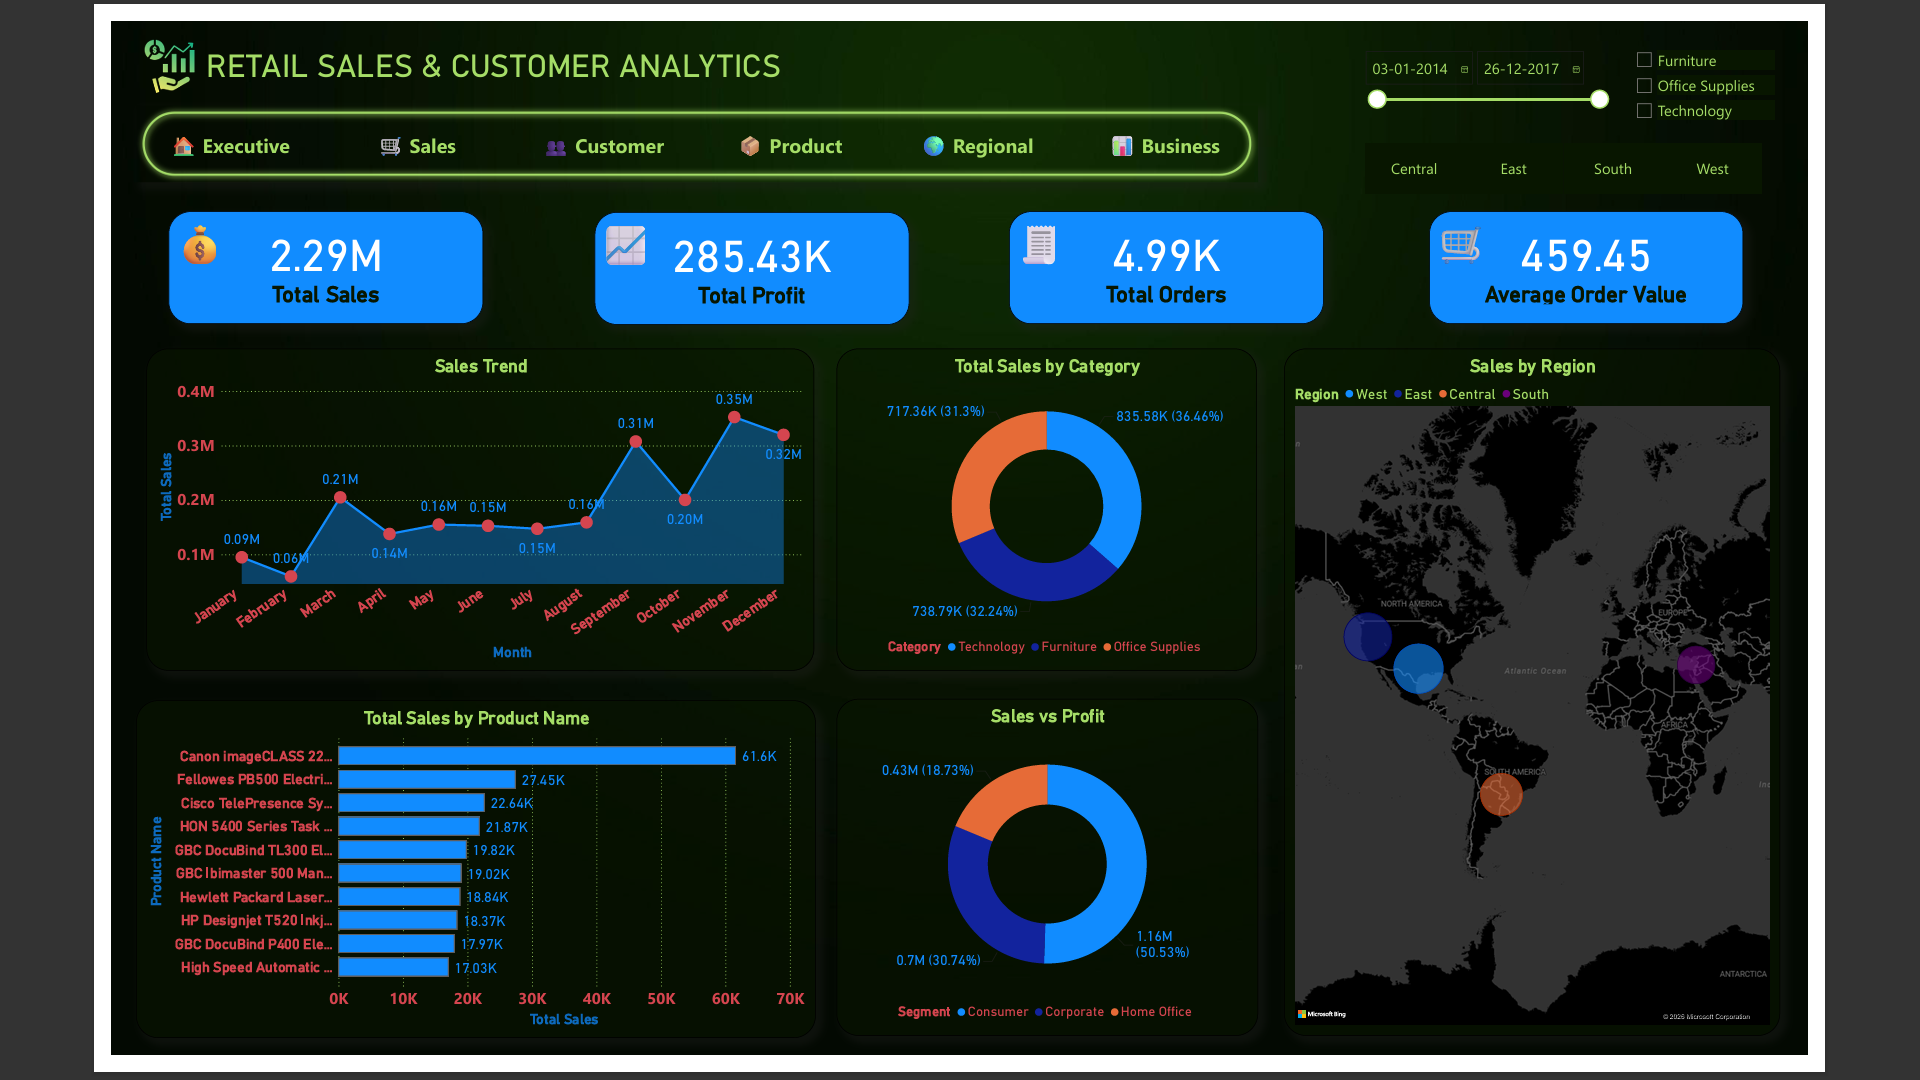

This screenshot's page, from the dashboard's own definition file:
{"tool":"powerbi","page":{"name":"Executive Dashboard","canvas":[2300,1400],"ordinal":0},"visuals":[{"type":"group","id":"g1","title":"Group 2","box":[33.3,113.3,1523.3,103.3],"z":0},{"type":"actionButton","box":[33.3,113.3,1522.5,105],"z":0,"group":"g1"},{"type":"cardVisual","fields":{"Data":["Sample_ Superstore.Total Sales"]},"box":[76.7,256.7,426.7,153.3],"z":0,"group":"g3"},{"type":"cardVisual","fields":{"Data":["Sample_ Superstore.Total Orders"]},"box":[1216.7,256.7,426.7,153.3],"z":0,"group":"g5"},{"type":"cardVisual","fields":{"Data":["Sample_ Superstore.Total Profit"]},"box":[655,257.5,426.7,153.3],"z":0,"group":"g4"},{"type":"actionButton","box":[33.3,117,254.7,101.3],"z":1000,"group":"g2"},{"type":"cardVisual","fields":{"Data":["Sample_ Superstore.Average Order Value"]},"box":[1786.7,256.7,426.7,153.3],"z":1000},{"type":"textbox","box":[77.8,257.8,426.7,90],"z":1000,"group":"g3"},{"type":"textbox","box":[1217.8,257.8,426.7,90],"z":1000,"group":"g5"},{"type":"textbox","box":[656.1,258.6,426.7,90],"z":1000,"group":"g4"},{"type":"image","box":[32.5,23.3,90,75],"z":2000},{"type":"actionButton","box":[287.3,117,253.3,101.3],"z":2000,"group":"g2"},{"type":"actionButton","box":[541,117,252.5,101.3],"z":3000,"group":"g2"},{"type":"textbox","box":[1787.8,257.8,426.7,83.3],"z":3000},{"type":"group","id":"g2","title":"Group 1","box":[33.3,117,1522.5,101.3],"z":3004,"group":"g1"},{"type":"textbox","box":[122.5,30,1065,75],"z":4000},{"type":"actionButton","box":[793.4,117,252.5,101.3],"z":4000,"group":"g2"},{"type":"slicer","fields":{"Values":["Sample_ Superstore.Order Date"]},"box":[1687.5,30,352.5,97.5],"z":5000},{"type":"actionButton","box":[1047.1,117,253.3,101.3],"z":5000,"group":"g2"},{"type":"actionButton","box":[1301.1,117,254.7,101.3],"z":6000,"group":"g2"},{"type":"slicer","fields":{"Values":["Sample_ Superstore.Region"]},"box":[1674,158,588,82],"z":6000},{"type":"slicer","fields":{"Values":["Sample_ Superstore.Category"]},"box":[2056,30,206,116],"z":7000},{"type":"group","id":"g3","title":"Group 3","box":[76.7,256.7,427.8,153.3],"z":8000},{"type":"group","id":"g4","title":"Group 3","box":[655,257.5,425,152.5],"z":9000},{"type":"group","id":"g5","title":"Group 3","box":[1216.7,256.7,427.8,153.3],"z":10000},{"type":"lineChart","title":"Sales Trend","fields":{"Y":["Sample_ Superstore.Total Sales"],"Category":["Sample_ Superstore.Order Date.Variation.Date Hierarchy.Month"]},"box":[46.7,443.3,906.7,436.7],"z":11000},{"type":"donutChart","fields":{"Category":["Sample_ Superstore.Category"],"Y":["Sample_ Superstore.Total Sales"]},"box":[983.3,443.3,570,436.7],"z":12000},{"type":"clusteredBarChart","fields":{"Category":["Sample_ Superstore.Product Name"],"Y":["Sample_ Superstore.Total Sales"]},"box":[32.5,920,922.5,457.5],"z":13000},{"type":"map","title":"Sales by Region","fields":{"Size":["Sample_ Superstore.Total Sales"],"Category":["Sample_ Superstore.Region"],"Series":["Sample_ Superstore.Region"]},"box":[1590,442.5,672.5,932.5],"z":14000},{"type":"donutChart","title":"Sales vs Profit","fields":{"Y":["Sum(Sample_ Superstore.Sales)"],"Category":["Sample_ Superstore.Segment"]},"box":[982.5,917.5,572.5,457.5],"z":15000}]}

Visuals, with their boxes on the page's 2300x1400 design canvas (x1, y1, x2, y2). These are canvas units, not pixel positions in the 1920x1080 screenshot, which may show the page scaled, cropped or inside an application window:
"Group 2" group: 33, 113, 1557, 217
actionButton: 33, 113, 1556, 218
cardVisual - Sample_ Superstore.Total Sales: 77, 257, 503, 410
cardVisual - Sample_ Superstore.Total Orders: 1217, 257, 1643, 410
cardVisual - Sample_ Superstore.Total Profit: 655, 258, 1082, 411
actionButton: 33, 117, 288, 218
cardVisual - Sample_ Superstore.Average Order Value: 1787, 257, 2213, 410
textbox: 78, 258, 504, 348
textbox: 1218, 258, 1644, 348
textbox: 656, 259, 1083, 349
image: 32, 23, 122, 98
actionButton: 287, 117, 541, 218
actionButton: 541, 117, 794, 218
textbox: 1788, 258, 2214, 341
"Group 1" group: 33, 117, 1556, 218
textbox: 122, 30, 1188, 105
actionButton: 793, 117, 1046, 218
slicer - Sample_ Superstore.Order Date: 1688, 30, 2040, 128
actionButton: 1047, 117, 1300, 218
actionButton: 1301, 117, 1556, 218
slicer - Sample_ Superstore.Region: 1674, 158, 2262, 240
slicer - Sample_ Superstore.Category: 2056, 30, 2262, 146
"Group 3" group: 77, 257, 504, 410
"Group 3" group: 655, 258, 1080, 410
"Group 3" group: 1217, 257, 1644, 410
"Sales Trend" lineChart: 47, 443, 953, 880
donutChart - Sample_ Superstore.Category x Sample_ Superstore.Total Sales: 983, 443, 1553, 880
clusteredBarChart - Sample_ Superstore.Product Name x Sample_ Superstore.Total Sales: 32, 920, 955, 1378
"Sales by Region" map: 1590, 442, 2262, 1375
"Sales vs Profit" donutChart: 982, 918, 1555, 1375
